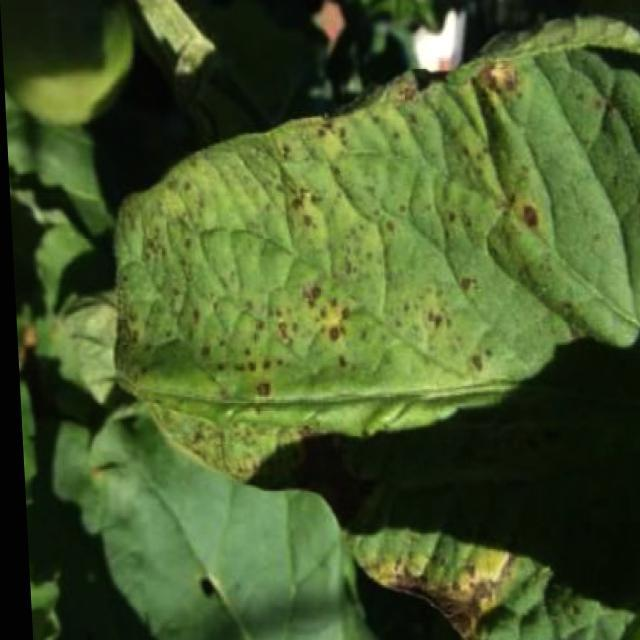Tomato Early blight leaf: (82, 26, 640, 639)
